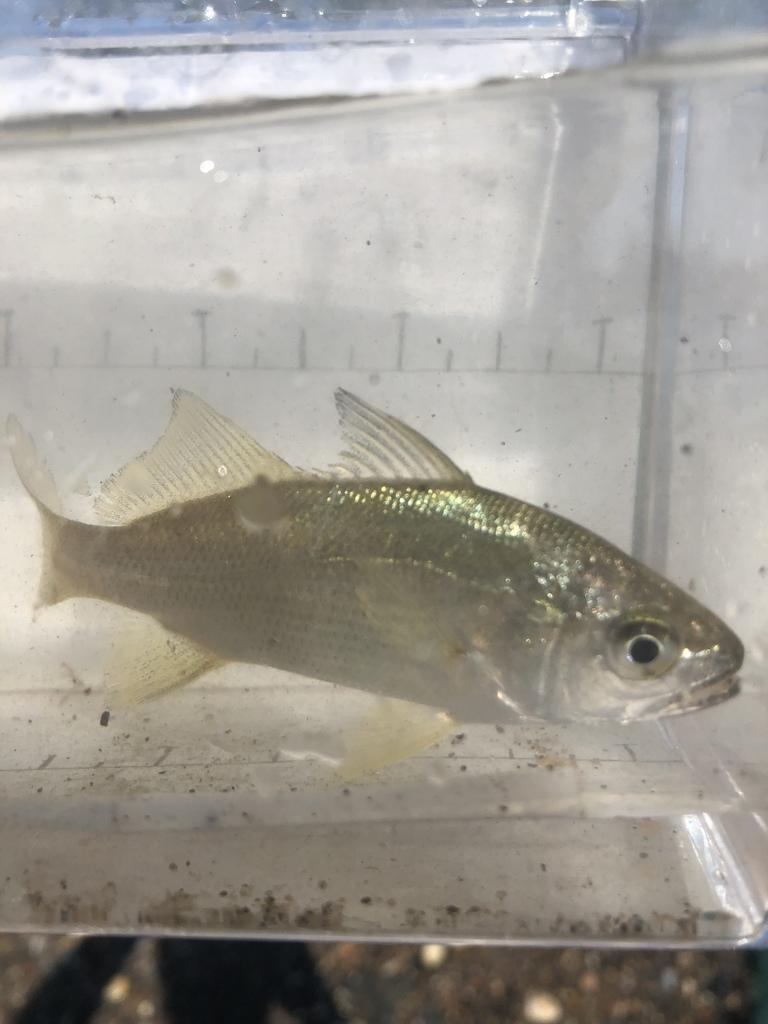Silver Perch: (1, 388, 743, 802)
